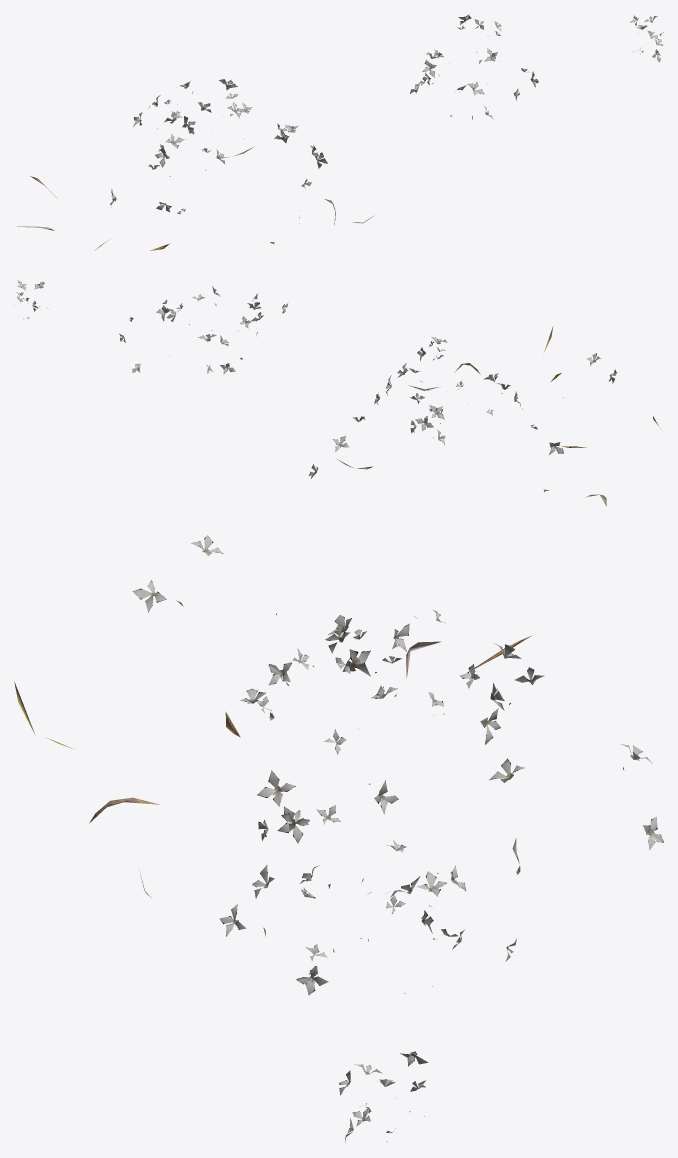
File: flower_heliophila.glb
3 views of the same model, one above another, from view 1: azimuth 30°, elevation 25°; view 2: azimuth 150°, elevation 25°; view 3: azimuth 270°, elevation 25° (orthographic). The views are drawn at different scales.
Parts seen in each view (by area): view 1: flower_heliophila_large; view 2: flower_heliophila_large; view 3: flower_heliophila_large.
Part boxes in pixels (<box>): flower_heliophila_large: <box>17,14,663,250</box>; flower_heliophila_large: <box>16,280,661,505</box>; flower_heliophila_large: <box>14,535,663,1142</box>.
Size of the model in its own units: 2.24 by 0.3807 by 1.08.
1 material, 1 textured.
